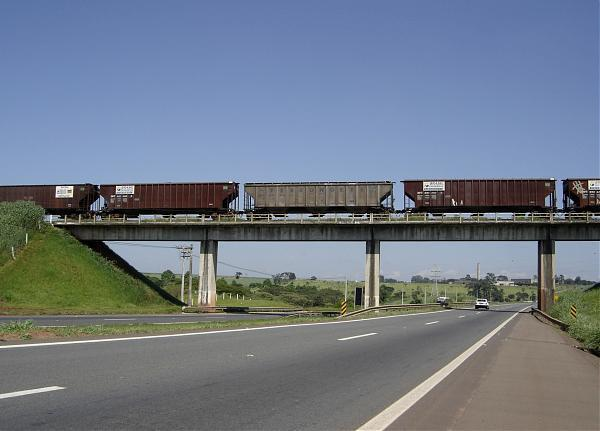bridge: (44, 211, 600, 245)
